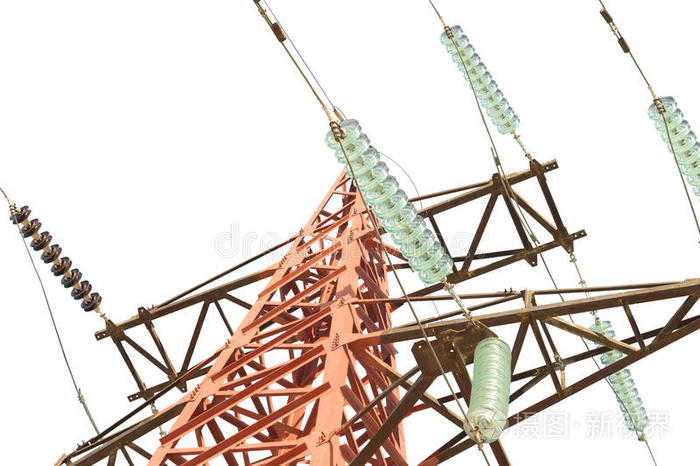insulator: (324, 116, 456, 285), (10, 204, 102, 312), (439, 24, 519, 134), (591, 317, 651, 434), (466, 334, 515, 443), (649, 93, 700, 195)
